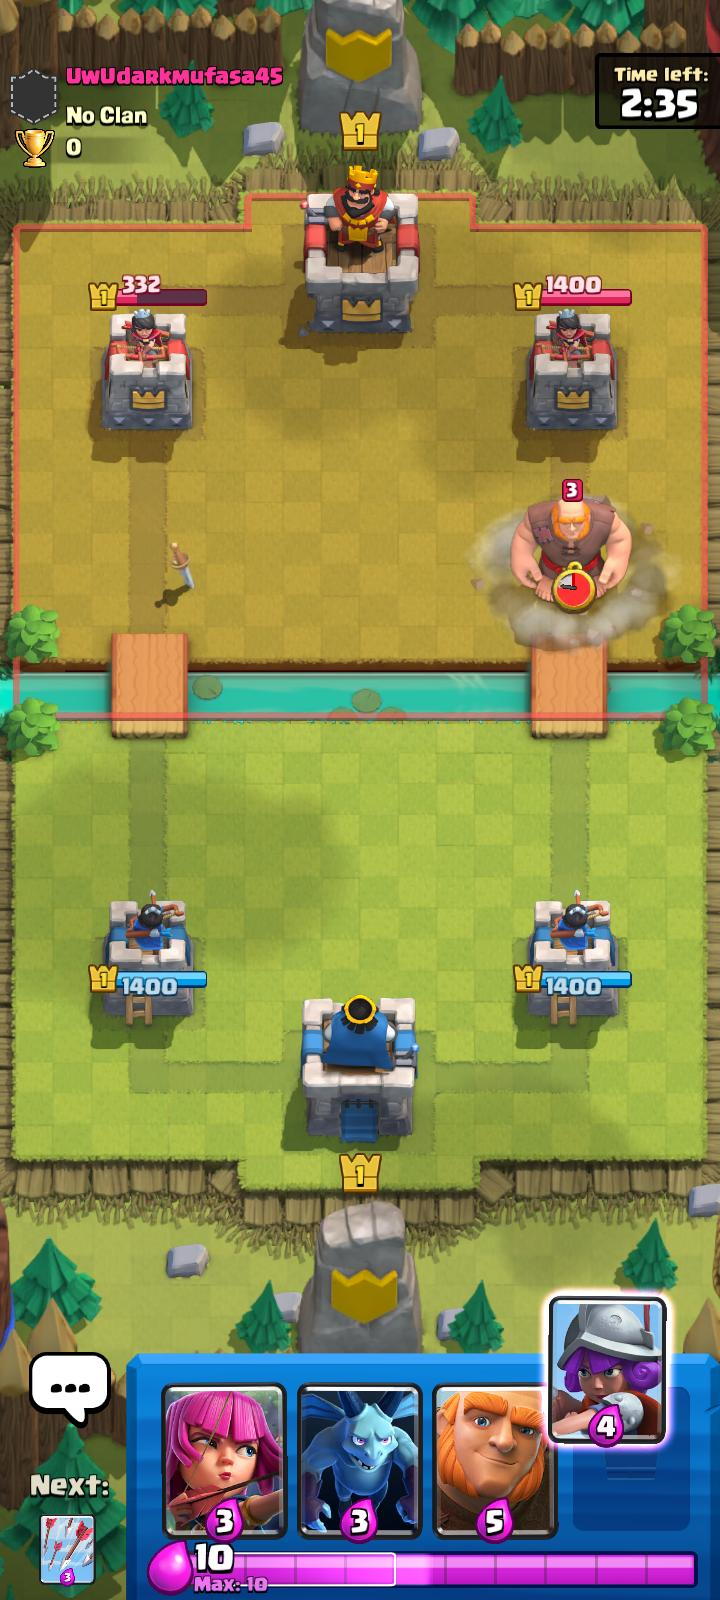geant: (499, 484, 649, 622)
